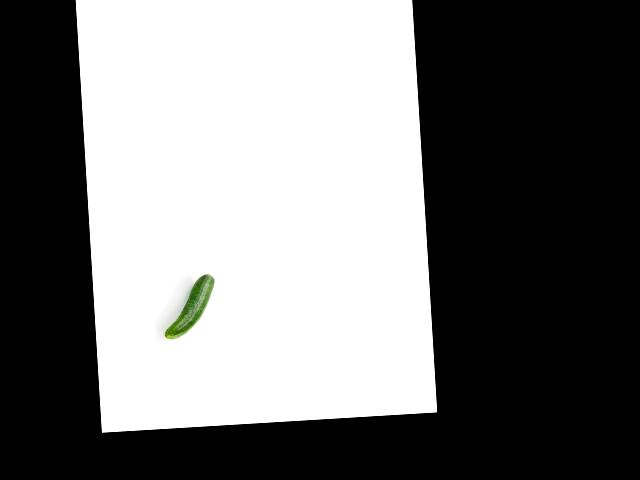cucumber: (160, 273, 217, 339)
